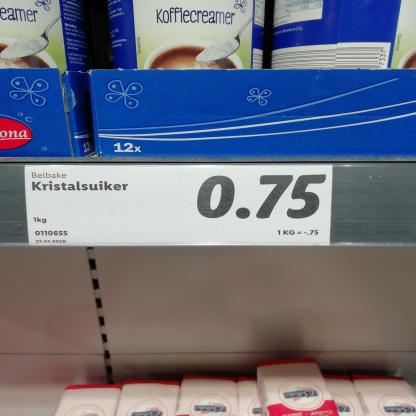prtg: (26, 166, 334, 246)
